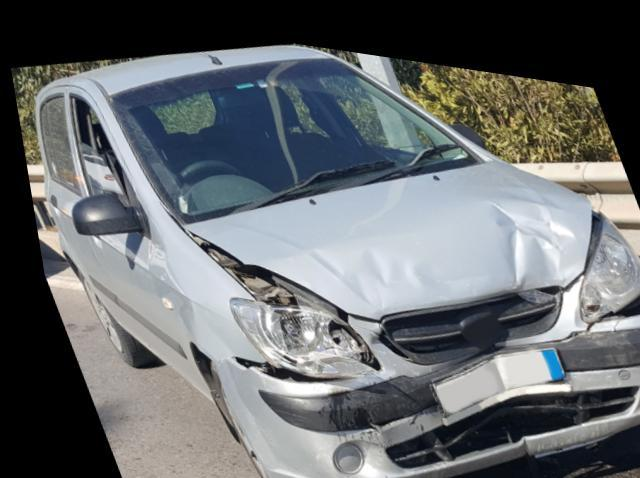dent: (326, 181, 570, 303)
dislocated part: (169, 218, 334, 308), (578, 262, 640, 307)
lamp broken: (220, 293, 364, 367), (573, 193, 640, 307)
